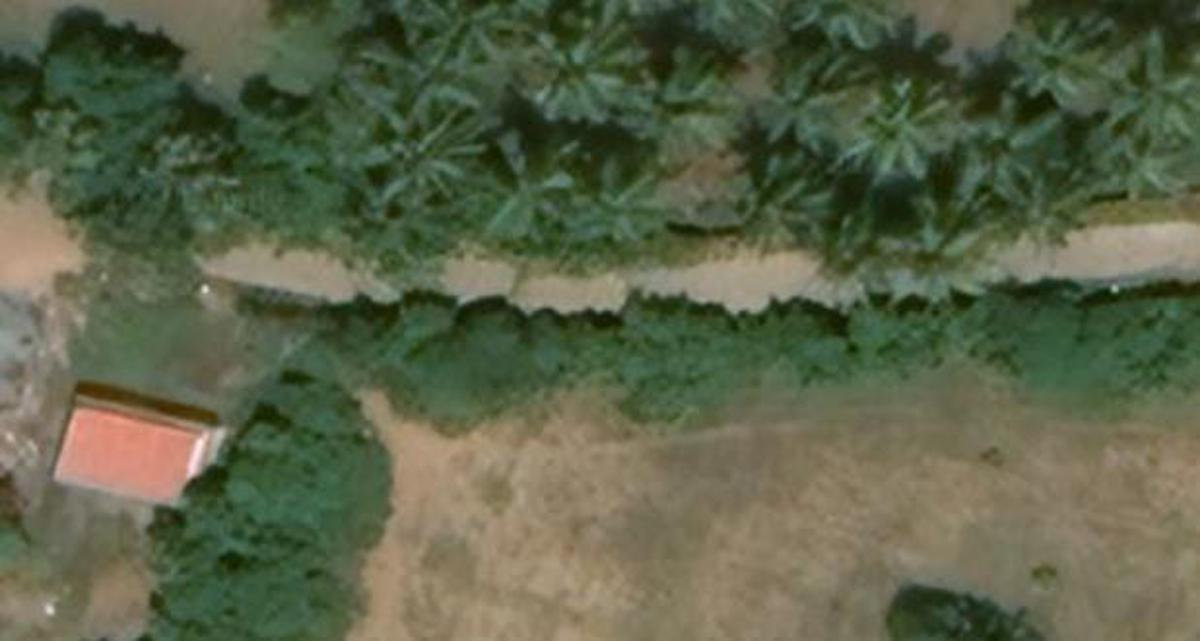coconut: (357, 93, 493, 211), (866, 202, 996, 312), (753, 46, 867, 155), (477, 132, 586, 244), (854, 67, 959, 182), (530, 25, 640, 132), (405, 0, 520, 89), (561, 161, 681, 244), (990, 167, 1100, 250), (1007, 19, 1114, 102), (644, 44, 735, 141), (1114, 40, 1200, 132), (1108, 130, 1198, 209), (751, 176, 840, 250), (786, 0, 891, 40)
